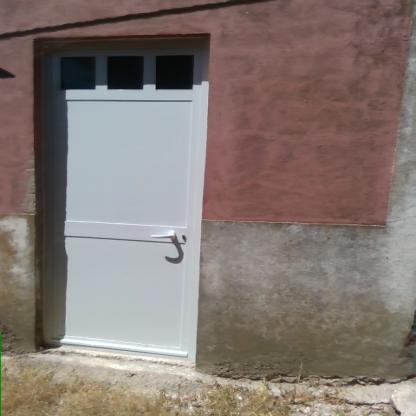door: (43, 47, 193, 352)
lever: (146, 231, 176, 241)
